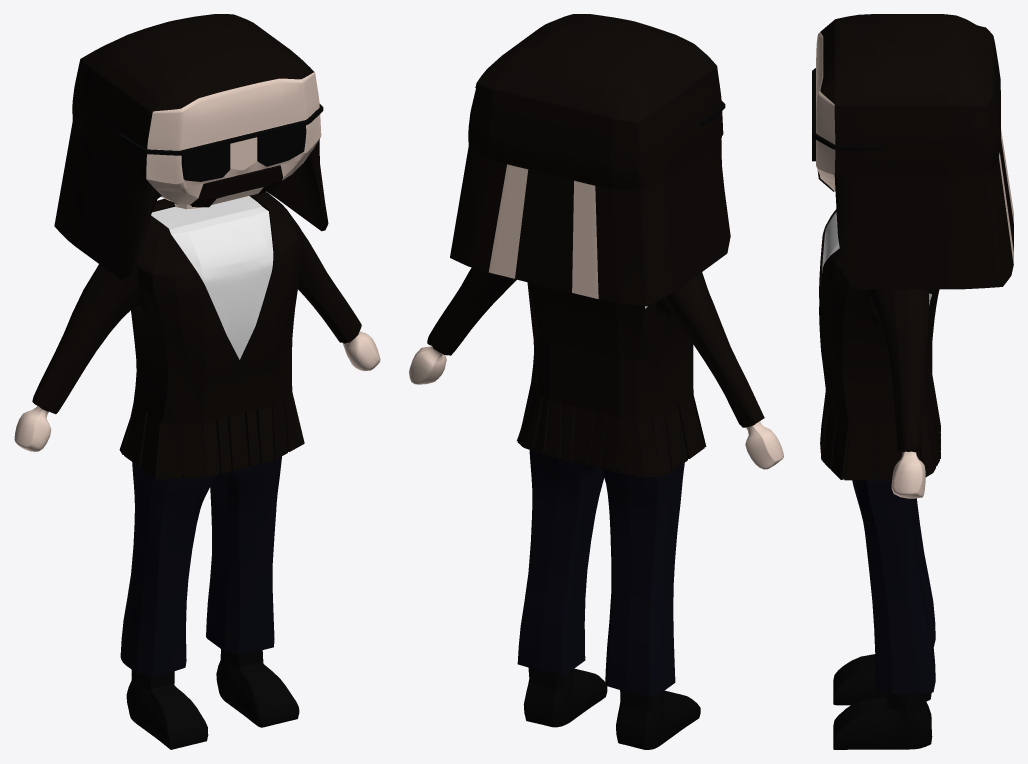
File: NPC_Black.fbx
The picture shows the model from 3 angles, left to right: view 1: azimuth 30°, elevation 25°; view 2: azimuth 150°, elevation 25°; view 3: azimuth 270°, elevation 25°; orthographic projection. The views are drawn at different scales.
Parts seen in each view (by area): view 1: NPC_Base_Model_Male:polySurface1; view 2: NPC_Base_Model_Male:polySurface1; view 3: NPC_Base_Model_Male:polySurface1.
Boxes of the visible parts, left/top/right/bottom form: NPC_Base_Model_Male:polySurface1: left=14, top=14, right=380, bottom=749; NPC_Base_Model_Male:polySurface1: left=409, top=14, right=783, bottom=749; NPC_Base_Model_Male:polySurface1: left=812, top=14, right=1013, bottom=749.
Bounding box in the file's own units: 134 × 239 × 63.66.
